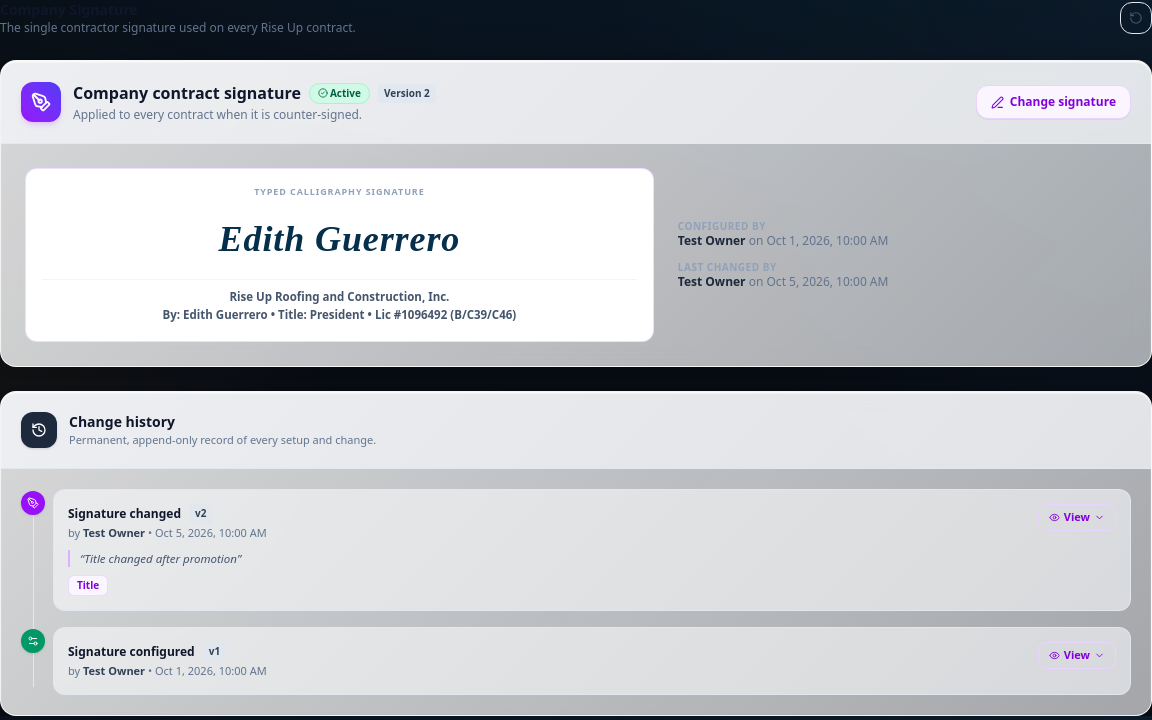
Test: CompanySignatureTab › shows a friendly message on a version conflict
Click the button "Change signature" at (1053, 102), box [976,85,1131,119]
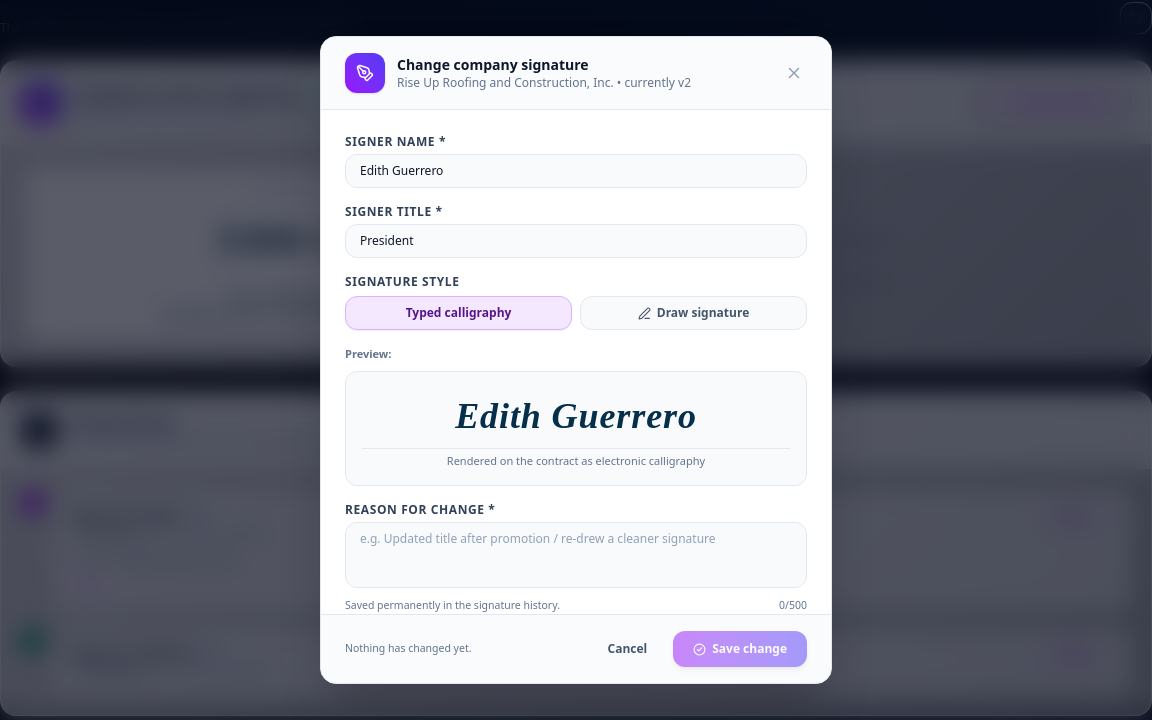
Replace the text in the field labelled "Signer title *" with "CEO" at (576, 241), box [345,224,807,258]
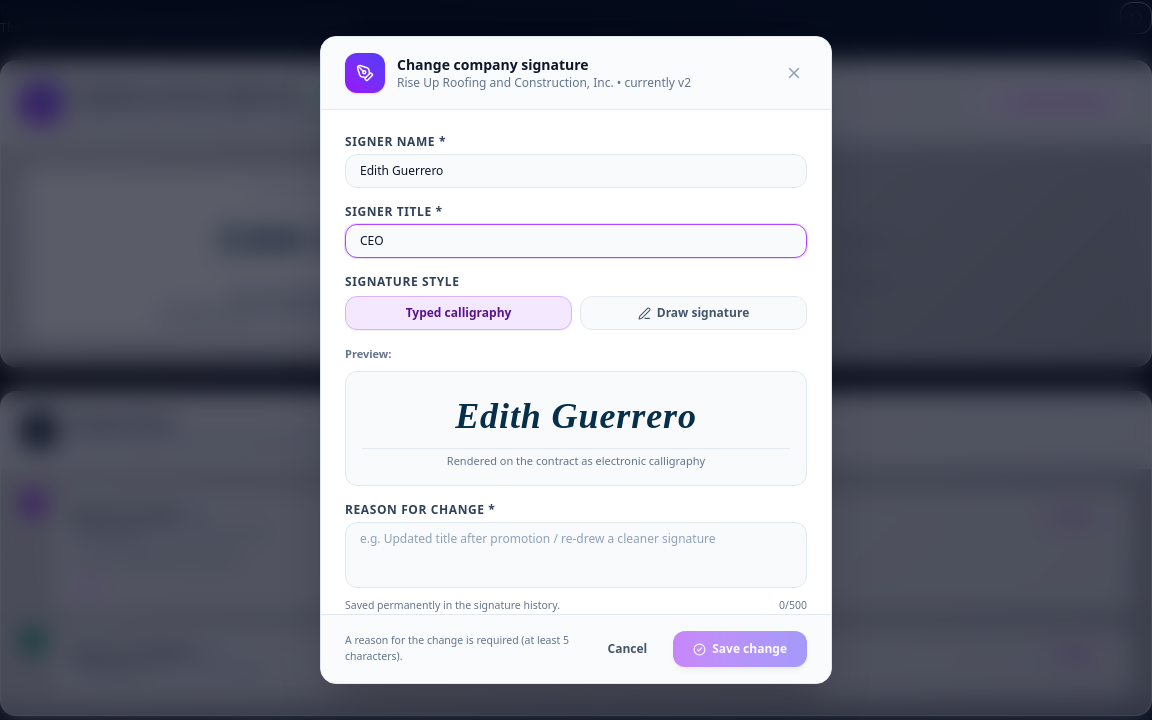
Type "Corporate restructure" into the text box labelled "Reason for change *" at (576, 555), box [345,522,807,588]
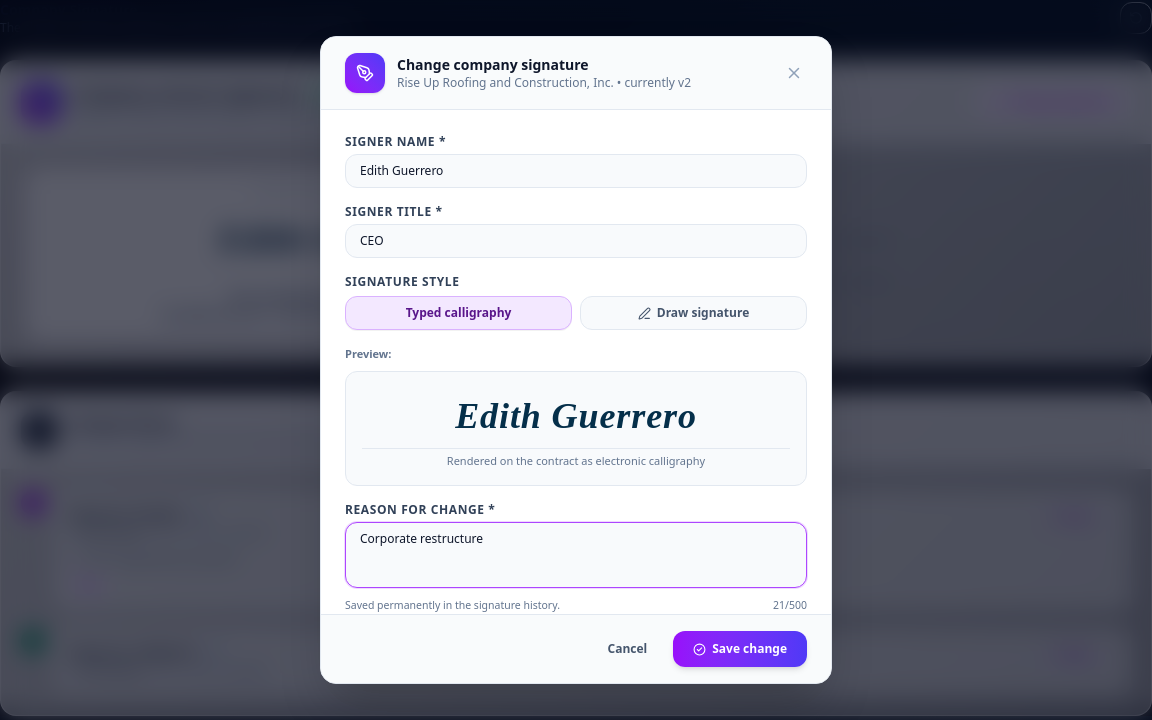
Click the button "Save change" at (740, 649), box [673,631,807,667]
(page scrolled)
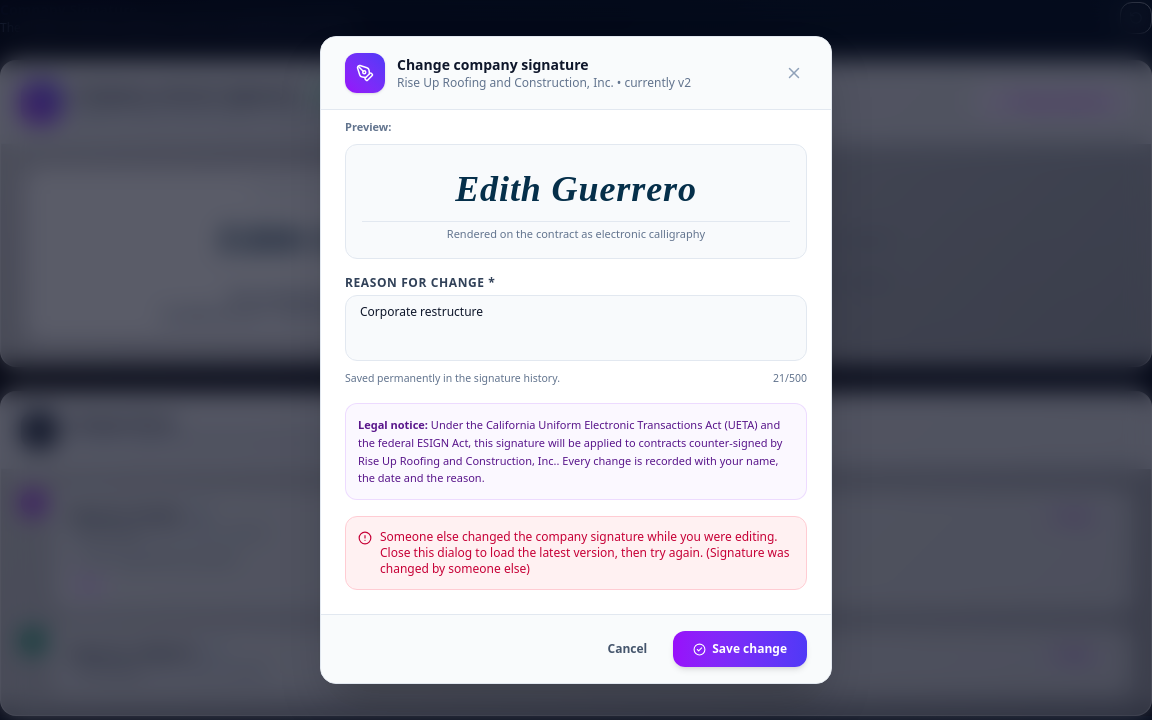
Now the text "Someone else changed the company signature" is shown, box [380,528,790,577]
